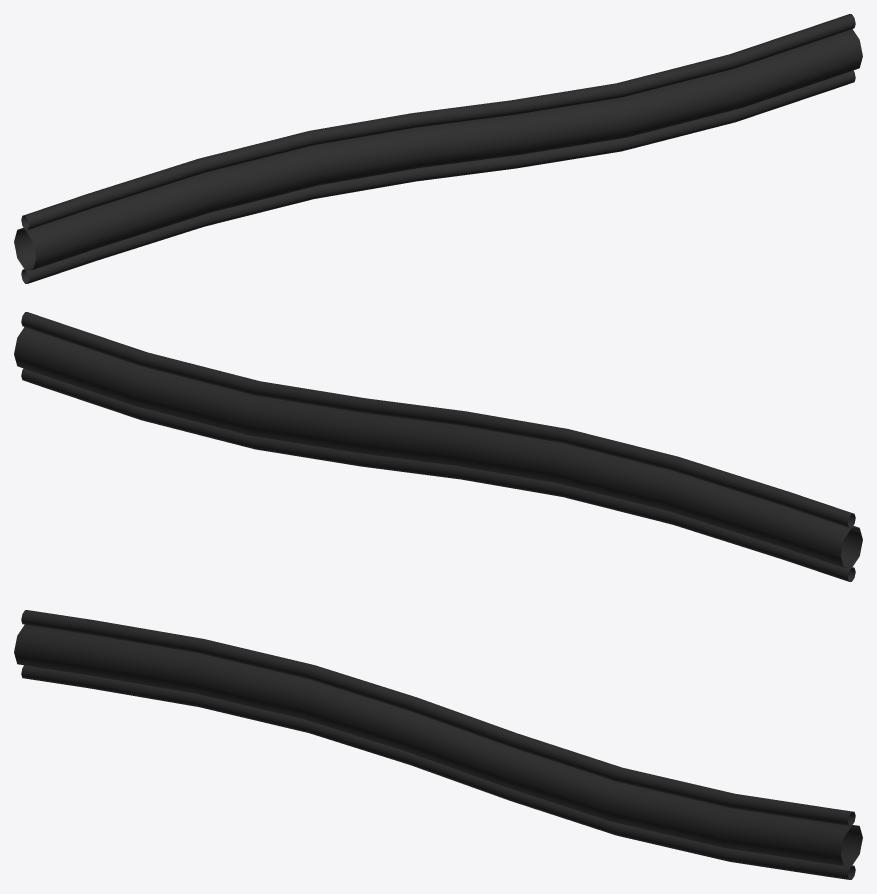
Rendered from ElectricalWires03_03.glb.
3 renders of one model, top to bottom at view 1: azimuth 30°, elevation 25°; view 2: azimuth 150°, elevation 25°; view 3: azimuth 330°, elevation 25°, orthographic.
Parts seen in each view (by area): view 1: NurbsPath_002; view 2: NurbsPath_002; view 3: NurbsPath_002.
Boxes of the visible parts, x1,y1,x2,y2 form: NurbsPath_002: [14, 14, 862, 283]; NurbsPath_002: [14, 312, 862, 581]; NurbsPath_002: [14, 610, 862, 879].
Bounding box in the file's own units: 3.62 × 0.4003 × 0.1691.
1 material, 1 textured.
